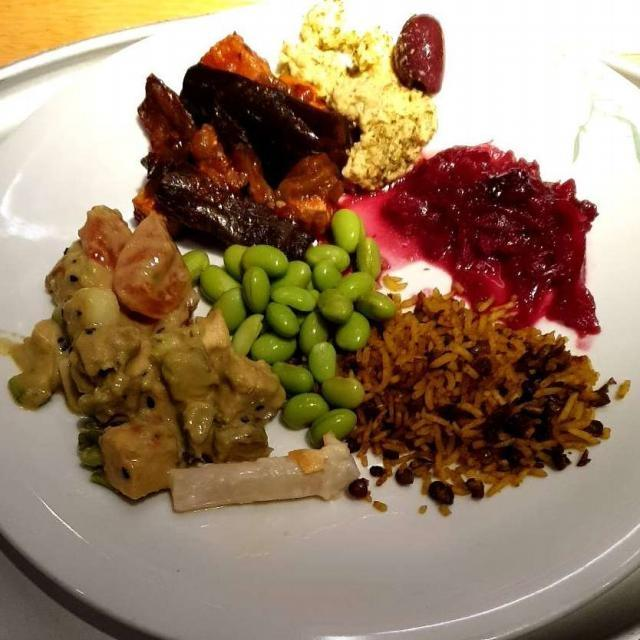cabbage: (389, 147, 614, 330)
eggplant: (128, 45, 343, 249)
hummus: (293, 11, 438, 179)
lentils: (354, 345, 587, 507)
rice: (363, 291, 624, 514)
tofu: (21, 253, 278, 495)
